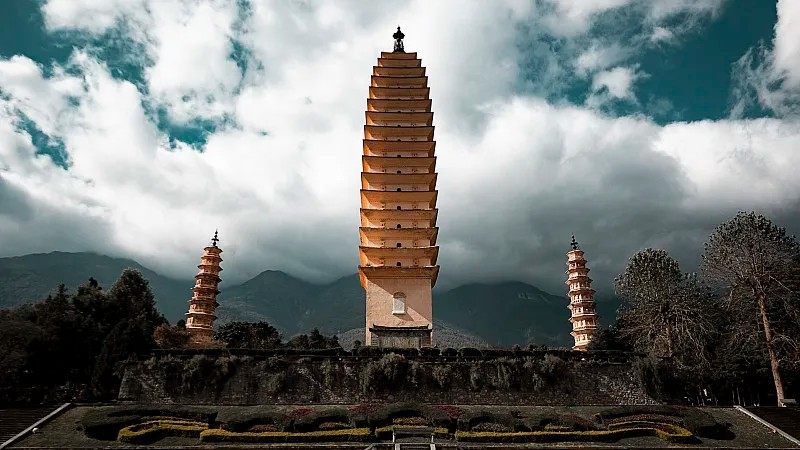ThreePagoda: (358, 26, 440, 348)
